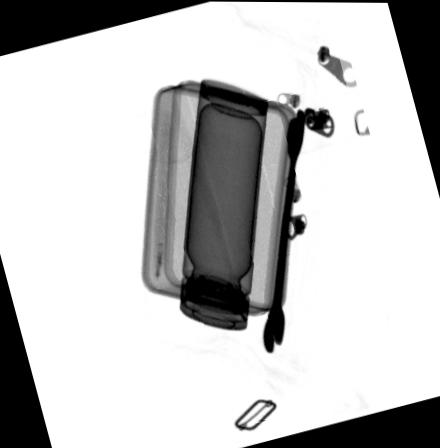Wrench: (261, 113, 305, 356)
